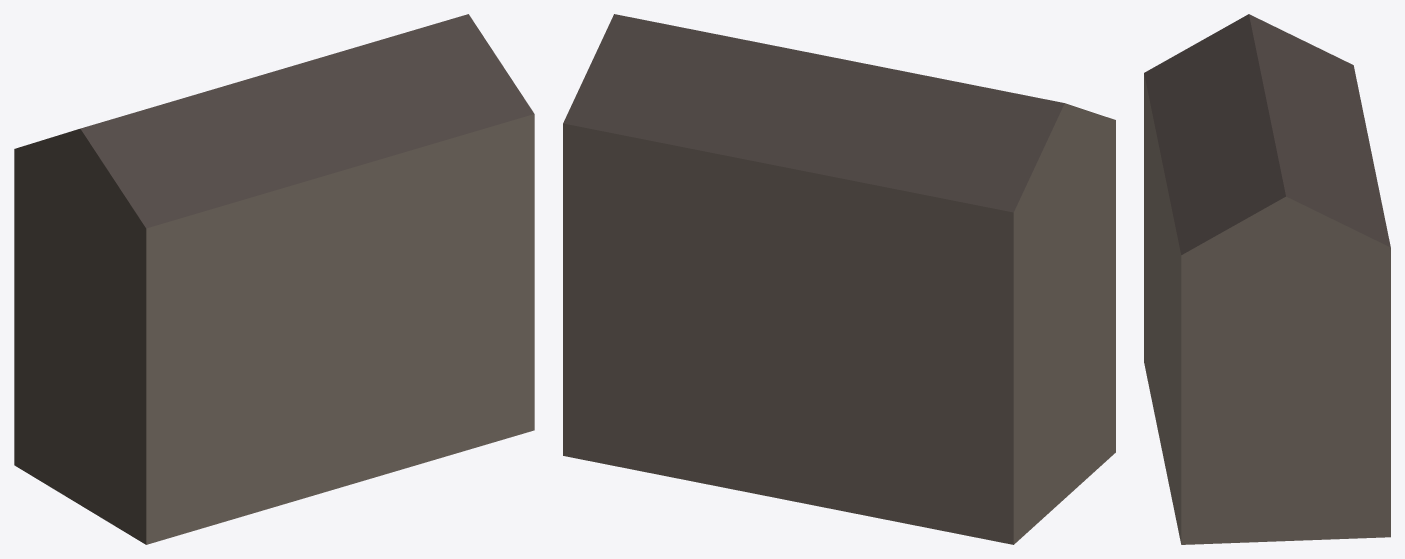
The picture shows the model from 3 angles, left to right: view 1: azimuth 30°, elevation 25°; view 2: azimuth 150°, elevation 25°; view 3: azimuth 270°, elevation 25°; orthographic projection. The views are drawn at different scales.
Visible parts, largest first — view 1: HP-w859424252; view 2: HP-w859424252; view 3: HP-w859424252.
Boxes of the visible parts, left/top/right/bottom form: HP-w859424252: left=14, top=14, right=534, bottom=544; HP-w859424252: left=563, top=14, right=1115, bottom=544; HP-w859424252: left=1144, top=14, right=1390, bottom=544.
Size of the model in its own units: 8.45 by 7.14 by 4.63.
